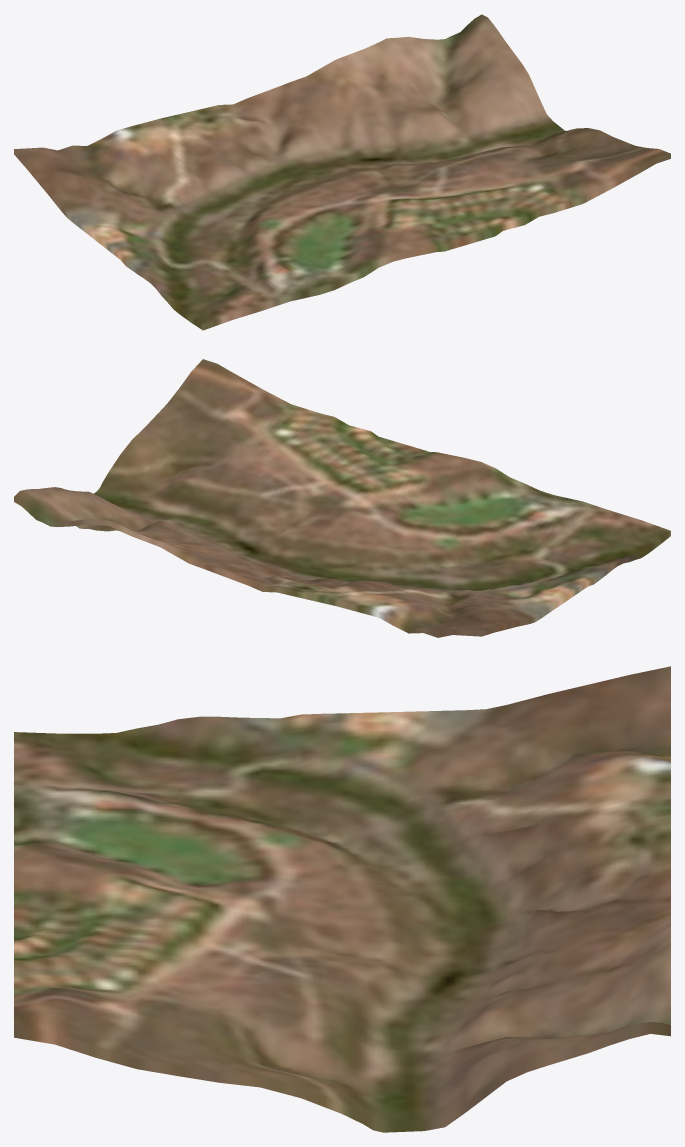
Rendered from terrain_r0_c1_lod2.glb.
3 renders of one model, top to bottom at view 1: azimuth 30°, elevation 25°; view 2: azimuth 150°, elevation 25°; view 3: azimuth 270°, elevation 25°, orthographic. The views are drawn at different scales.
Parts seen in each view (by area): view 1: terrain_r0_c1_lod2; view 2: terrain_r0_c1_lod2; view 3: terrain_r0_c1_lod2.
Boxes of the visible parts, x1,y1,x2,y2 form: terrain_r0_c1_lod2: (14, 14, 670, 330); terrain_r0_c1_lod2: (14, 359, 670, 637); terrain_r0_c1_lod2: (14, 666, 670, 1132).
Size of the model in its own units: 1125 by 152 by 787.
Materials: 1 (1 with a texture image).
